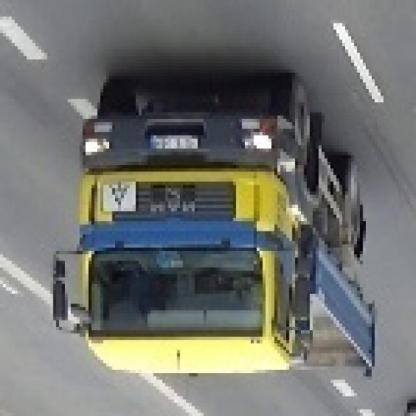truck: (57, 80, 382, 387)
